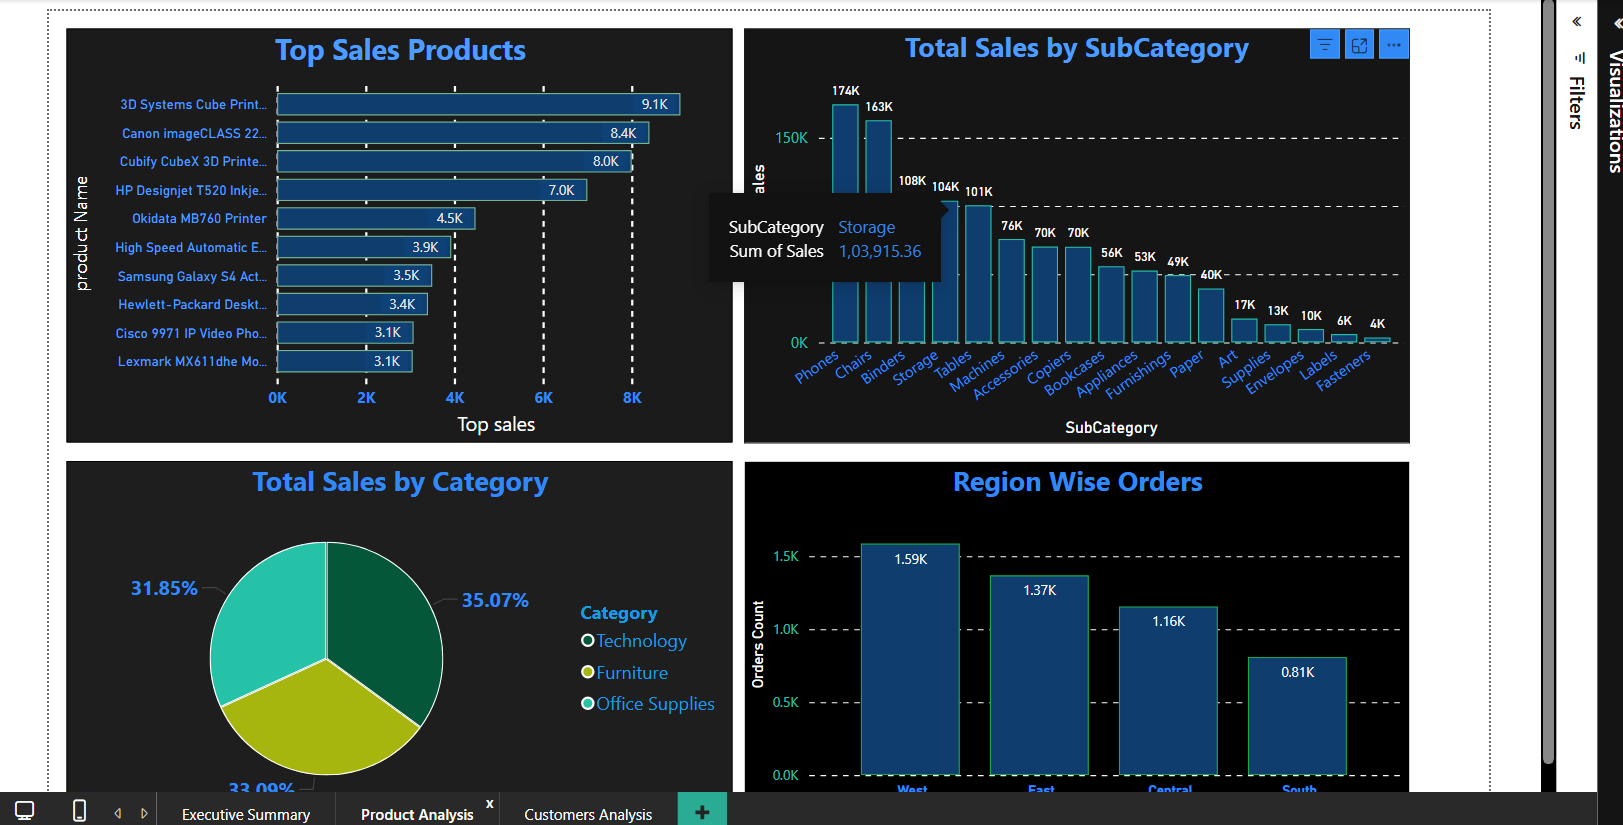

The dashboard page shown, as its layout file describes it:
{"tool":"powerbi","page":{"name":"Product Analysis","canvas":[1280,720],"ordinal":1},"visuals":[{"type":"clusteredBarChart","title":"Top Sales Products ","fields":{"Category":["supersales_cleaned(in)1.Produc Name"],"Y":["Min(supersales_cleaned(in)1.Sales)"]},"box":[16,16,592,368],"z":0},{"type":"pieChart","title":"Total Sales by Category","fields":{"Category":["supersales_cleaned(in)1.Category"],"Y":["Sum(supersales_cleaned(in)1.Sales)"]},"box":[16,400,592,320],"z":1000},{"type":"clusteredColumnChart","title":"Total  Sales by SubCategory","fields":{"Category":["supersales_cleaned(in)1.SubCategory"],"Y":["Sum(supersales_cleaned(in)1.Sales)"]},"box":[618,16,592,368],"z":2000},{"type":"clusteredColumnChart","title":"Region Wise Sales","fields":{"Category":["supersales_cleaned(in)1.Region"],"Y":["Sum(supersales_cleaned(in)1.Sales)"]},"box":[618,400,592,320],"z":3000}]}

Visuals, with their boxes in screenshot pixels (x1, y1, x2, y2):
"Top Sales Products " clusteredBarChart: 60,22,729,438
"Total Sales by Category" pieChart: 60,456,729,817
"Total  Sales by SubCategory" clusteredColumnChart: 740,22,1408,438
"Region Wise Sales" clusteredColumnChart: 740,456,1408,817
